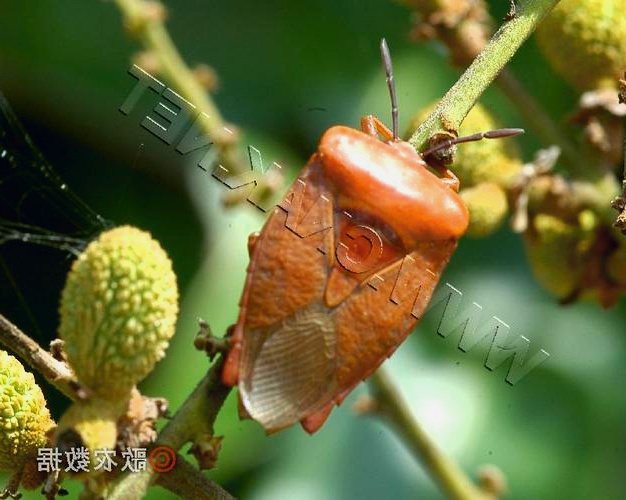Stink_Bug: (195, 106, 498, 385)
